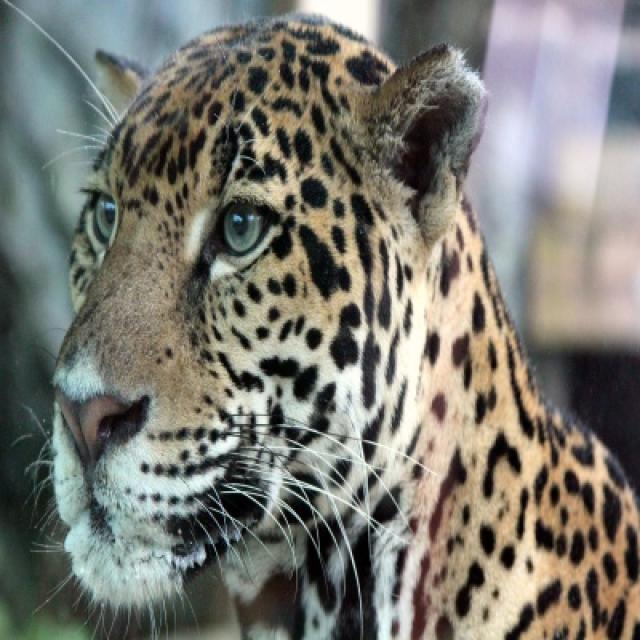Jaguar: (37, 14, 638, 638)
